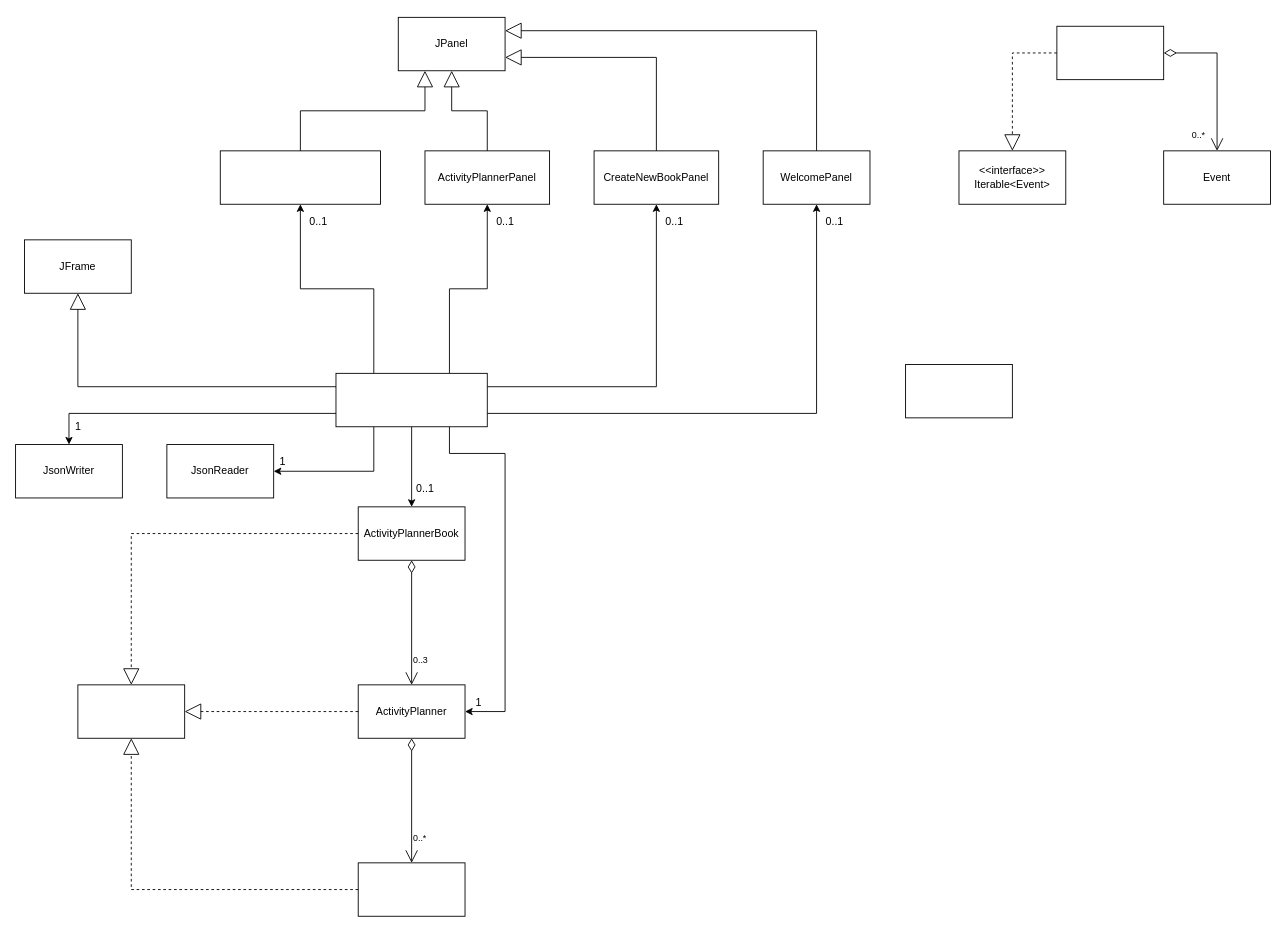
The diagram is 1286 pixels wide and 932 high, and some of its shapes have lost their labels. The centre of each missing label's shape, as x and y in pixels:
<<interface>> Writable: point 131,711
Activity: point 411,889
ActivityPlannerBookFrame: point 411,399
ActivityPlannerBookPanel: point 299,177
EventLog: point 1110,52
Main: point 958,391
